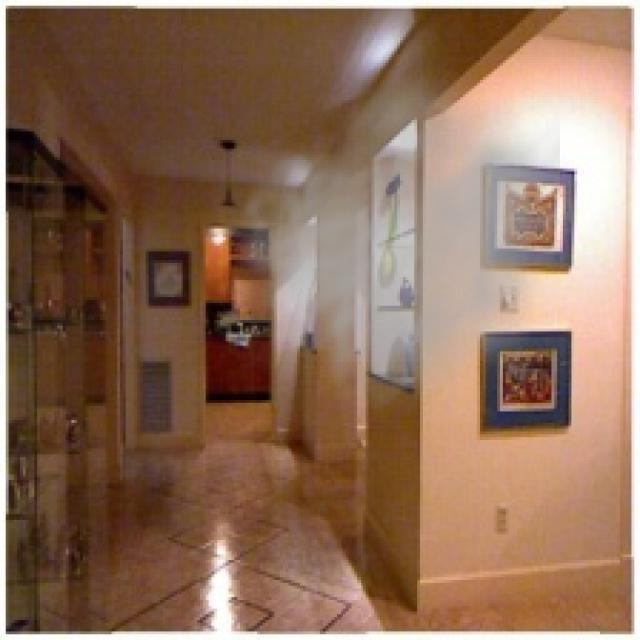Smoke: (197, 54, 560, 426)
